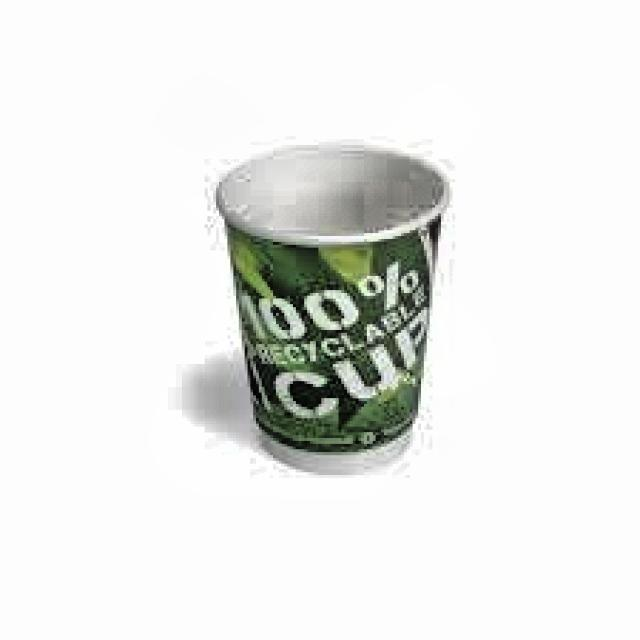Cup: (215, 124, 448, 480)
